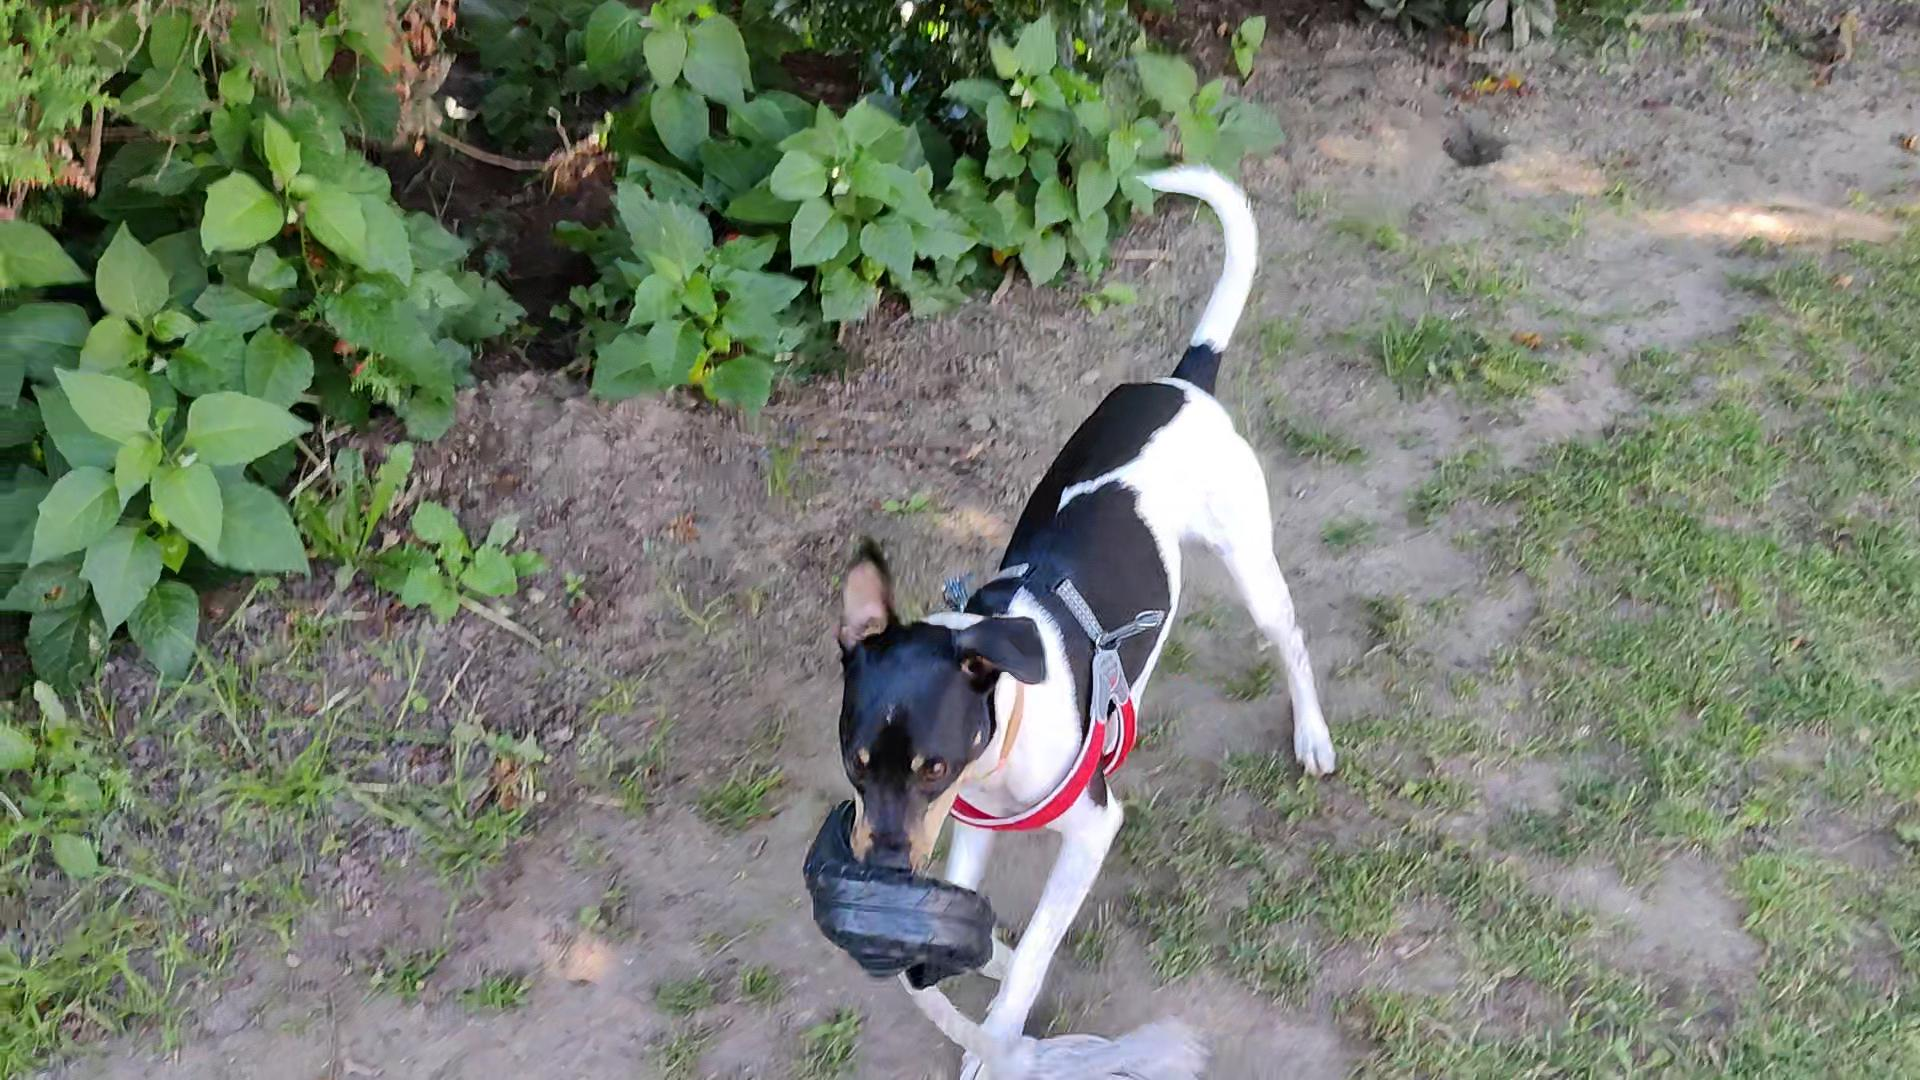Dog: (785, 142, 1354, 1079)
